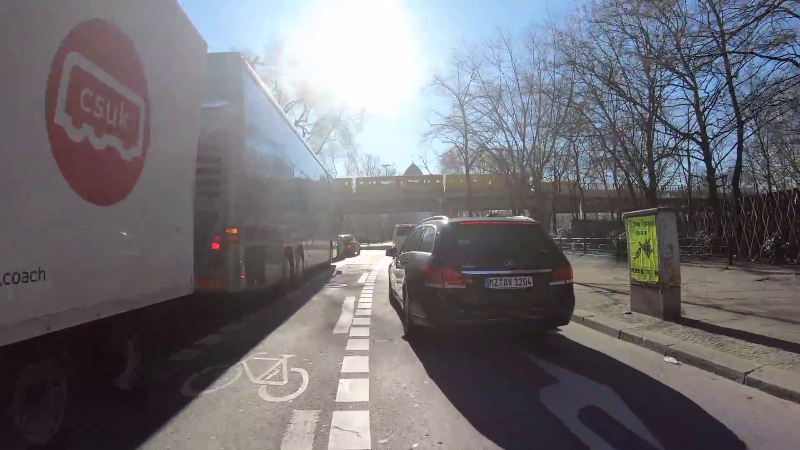Plate: (482, 274, 535, 290)
